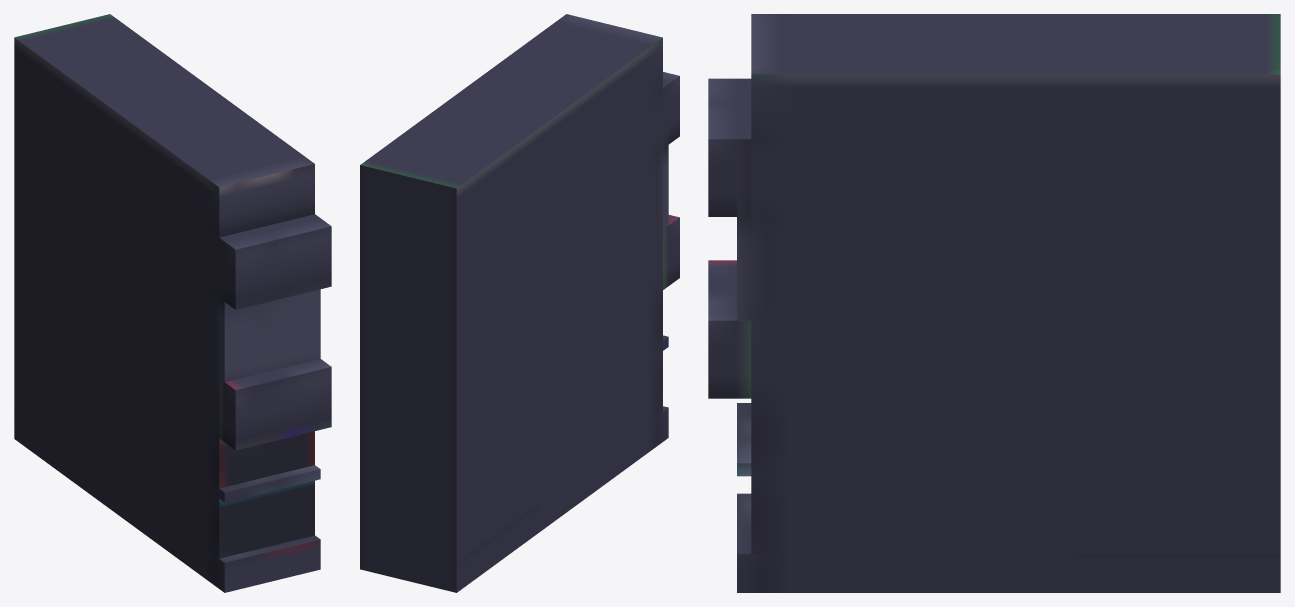
File: TrimPiece_F_00.fbx
3 renders of one model, left to right at view 1: azimuth 30°, elevation 25°; view 2: azimuth 150°, elevation 25°; view 3: azimuth 270°, elevation 25°, orthographic. The views are drawn at different scales.
Visible parts, largest first — view 1: TrimPiece_F_00; view 2: TrimPiece_F_00; view 3: TrimPiece_F_00.
Part boxes in pixels (<box>): TrimPiece_F_00: <box>14,14,331,592</box>; TrimPiece_F_00: <box>360,14,679,592</box>; TrimPiece_F_00: <box>708,14,1280,592</box>.
Bounding box in the file's own units: 50 × 200 × 200.
